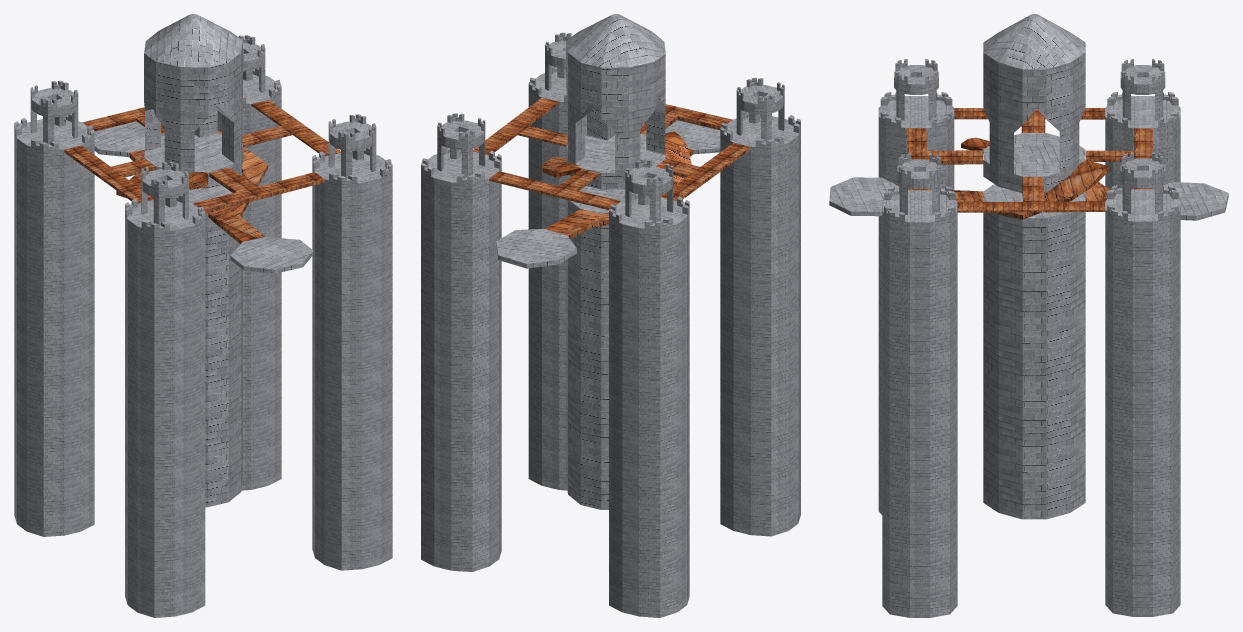
The model's file is SkyTowerDM.glb.
The picture shows the model from 3 angles, left to right: view 1: azimuth 30°, elevation 25°; view 2: azimuth 150°, elevation 25°; view 3: azimuth 270°, elevation 25°; orthographic projection. The views are drawn at different scales.
Visible parts, largest first — view 1: Cube, Cube.001; view 2: Cube, Cube.001; view 3: Cube, Cube.001.
Boxes of the visible parts, x1,y1,x2,y2 form: Cube: (14, 35, 392, 617); Cube.001: (94, 14, 313, 507); Cube: (421, 32, 800, 617); Cube.001: (496, 14, 720, 509); Cube: (878, 59, 1180, 617); Cube.001: (829, 14, 1228, 519).
Bounding box in the file's own units: 69.3 × 136 × 92.08.
Materials: 4 (4 with a texture image).
